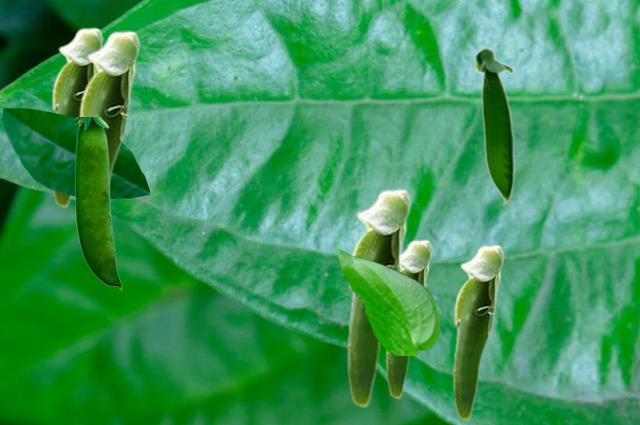pea: (346, 188, 411, 407), (77, 30, 140, 202), (50, 27, 103, 207), (452, 244, 504, 420), (75, 117, 121, 289), (385, 239, 432, 398), (473, 46, 514, 205)
